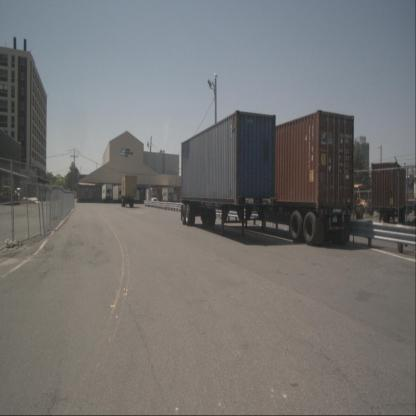vehicle-bus-rigid: (332, 183, 374, 217)
vehicle-truck: (144, 188, 158, 206)
